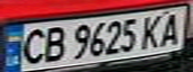2: (106, 17, 127, 56)
5: (118, 16, 142, 53)
6: (87, 19, 112, 58)
9: (69, 20, 93, 61)
A: (154, 9, 187, 47)
B: (36, 24, 69, 64)
C: (15, 26, 48, 66)
K: (136, 11, 169, 50)
